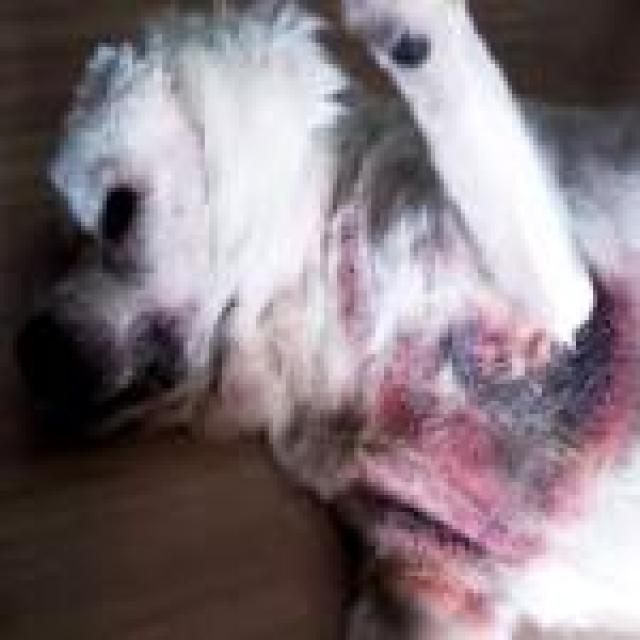fungal infection: (377, 358, 498, 607), (452, 295, 640, 445), (479, 457, 593, 551), (326, 228, 394, 343)
